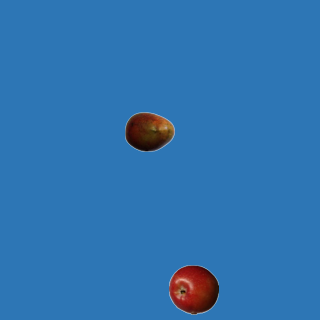Apple Braeburn: (168, 264, 218, 314)
Mango Red: (124, 106, 174, 156)
